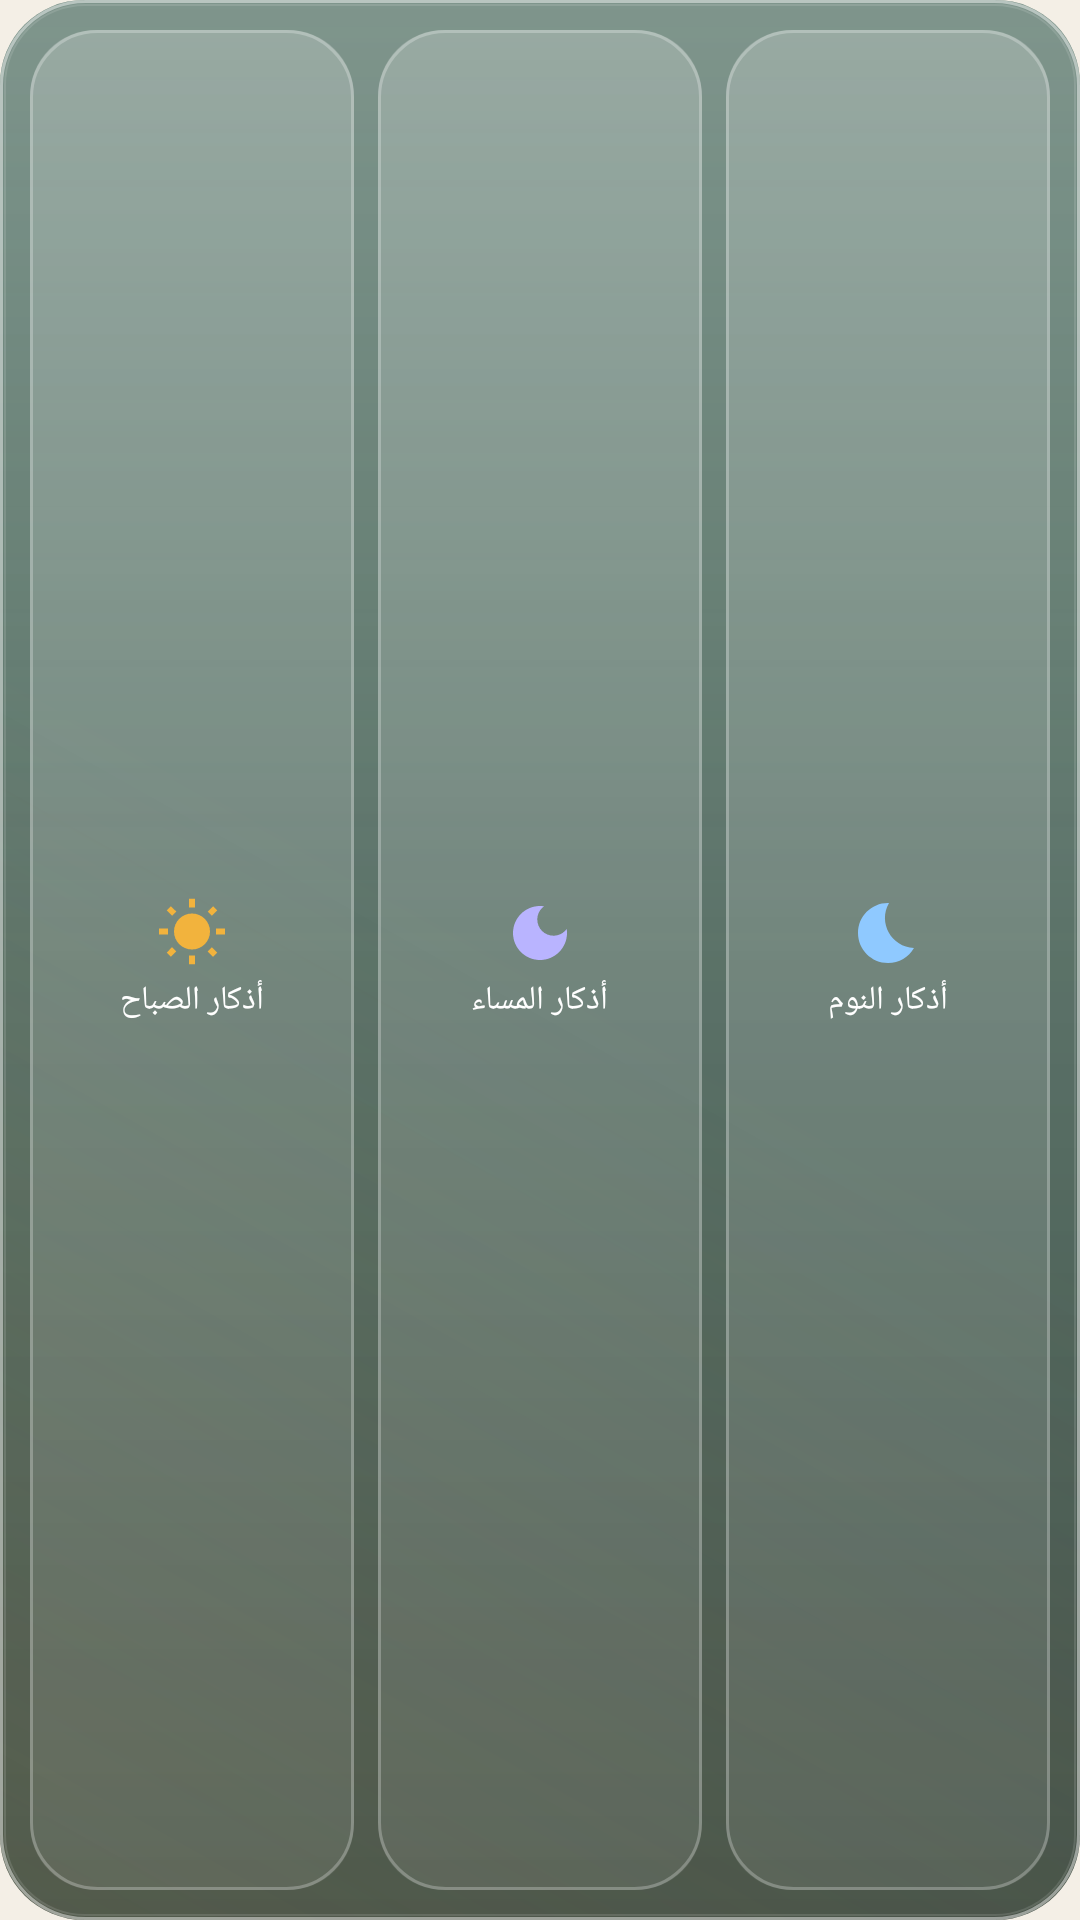

Icons on this 1080 × 1920 Android screen, each with the point to tap as (x=x, y=y):
moon: (x=540, y=933)
sun: (x=192, y=931)
